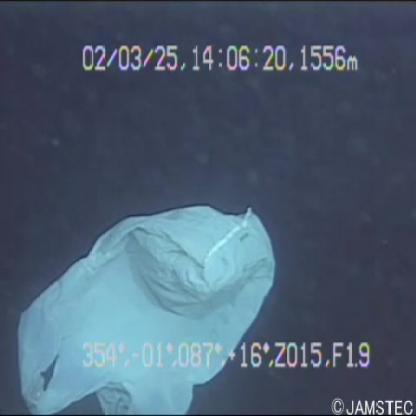Rác: (19, 179, 278, 416)
